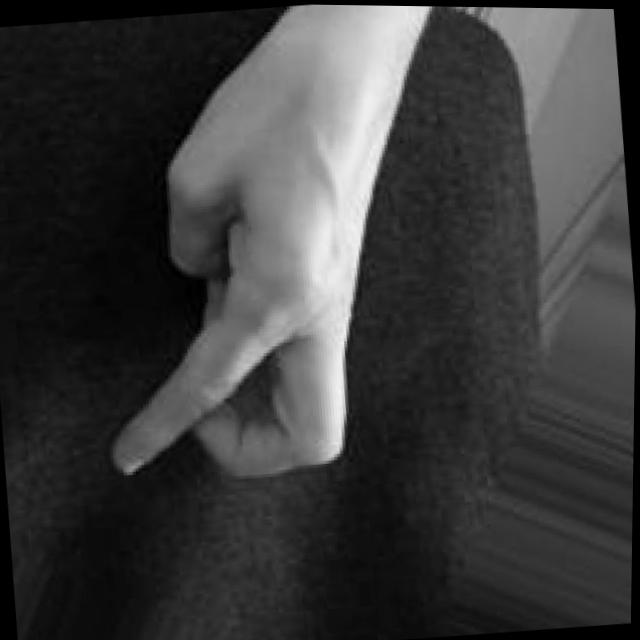P: (66, 1, 493, 499)
